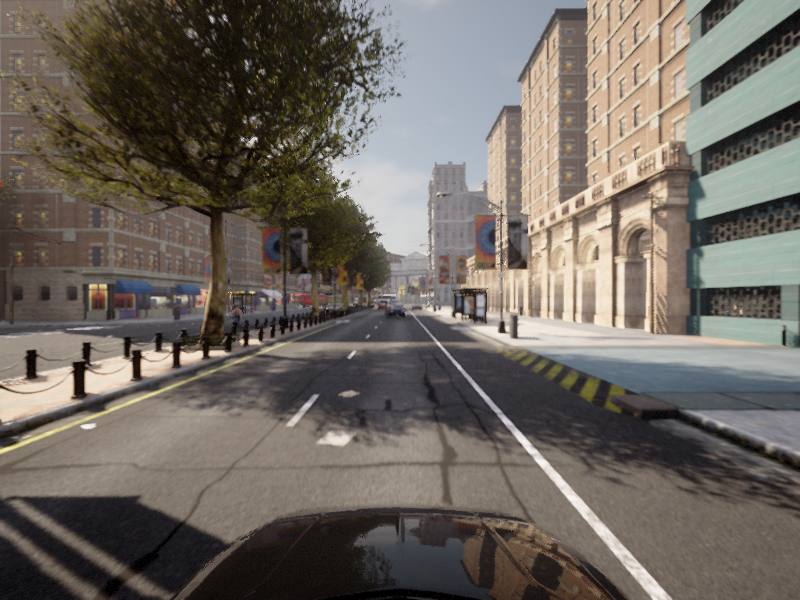vehicle: (225, 305, 246, 329), (200, 304, 225, 324), (383, 305, 405, 318)
